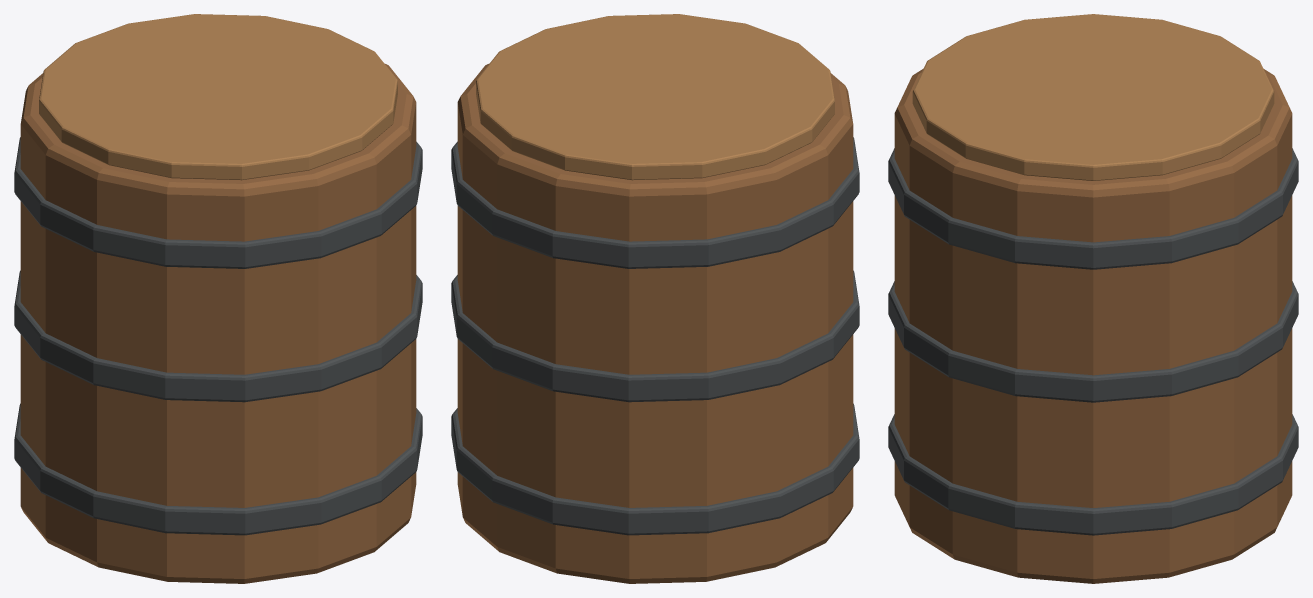
File: barrel_oak_0p8.glb
3 renders of one model, left to right at view 1: azimuth 30°, elevation 25°; view 2: azimuth 150°, elevation 25°; view 3: azimuth 270°, elevation 25°, orthographic.
Visible parts, largest first — view 1: barrel_body, barrel_top, barrel_hoop_02, barrel_hoop_01, barrel_hoop_03; view 2: barrel_body, barrel_top, barrel_hoop_02, barrel_hoop_01, barrel_hoop_03; view 3: barrel_body, barrel_top, barrel_hoop_03, barrel_hoop_01, barrel_hoop_02.
Part boxes in pixels (<box>): barrel_body: <box>20,63,416,583</box>; barrel_top: <box>39,14,397,180</box>; barrel_hoop_02: <box>14,270,422,402</box>; barrel_hoop_01: <box>14,403,422,535</box>; barrel_hoop_03: <box>14,137,422,268</box>; barrel_body: <box>457,63,853,583</box>; barrel_top: <box>476,14,834,180</box>; barrel_hoop_02: <box>451,270,859,402</box>; barrel_hoop_01: <box>451,403,859,535</box>; barrel_hoop_03: <box>451,137,859,268</box>; barrel_body: <box>894,69,1292,583</box>; barrel_top: <box>912,14,1274,180</box>; barrel_hoop_03: <box>888,148,1298,269</box>; barrel_hoop_01: <box>888,414,1298,535</box>; barrel_hoop_02: <box>888,281,1298,402</box>.
Size of the model in its own units: 0.784 by 0.8725 by 0.784.
